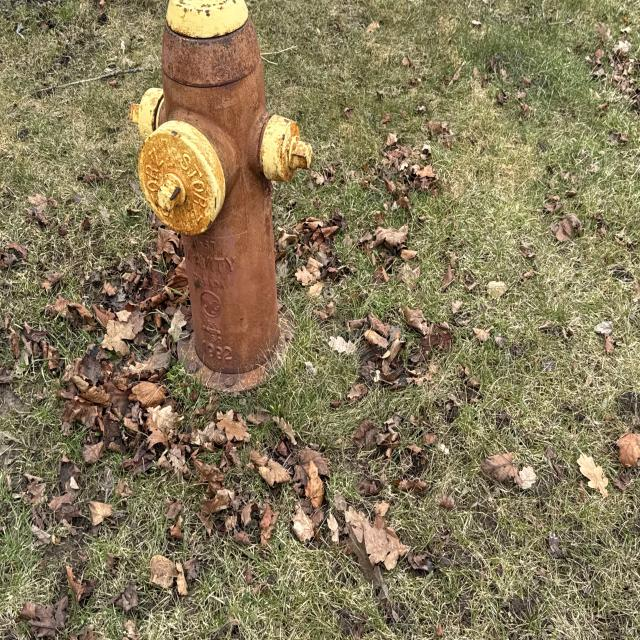Fire hydrant: (134, 1, 316, 404)
